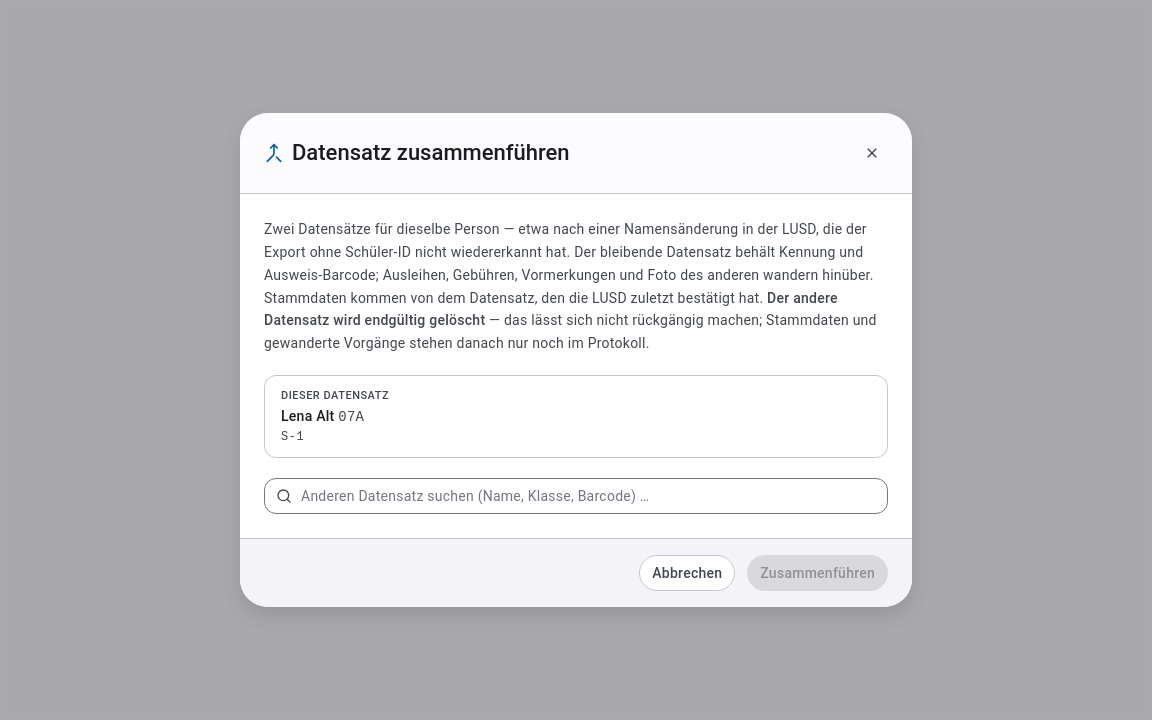
Test case: SchuelerZusammenfuehrenDialog: Kandidatensuche › fängt einen Netzwerkfehler in der Suche ab und sagt es
Type "Al" into the search field labelled "Anderen Datensatz suchen".
click(576, 496); type("Al")  # box [264,478,888,514]
Wait 250 ms
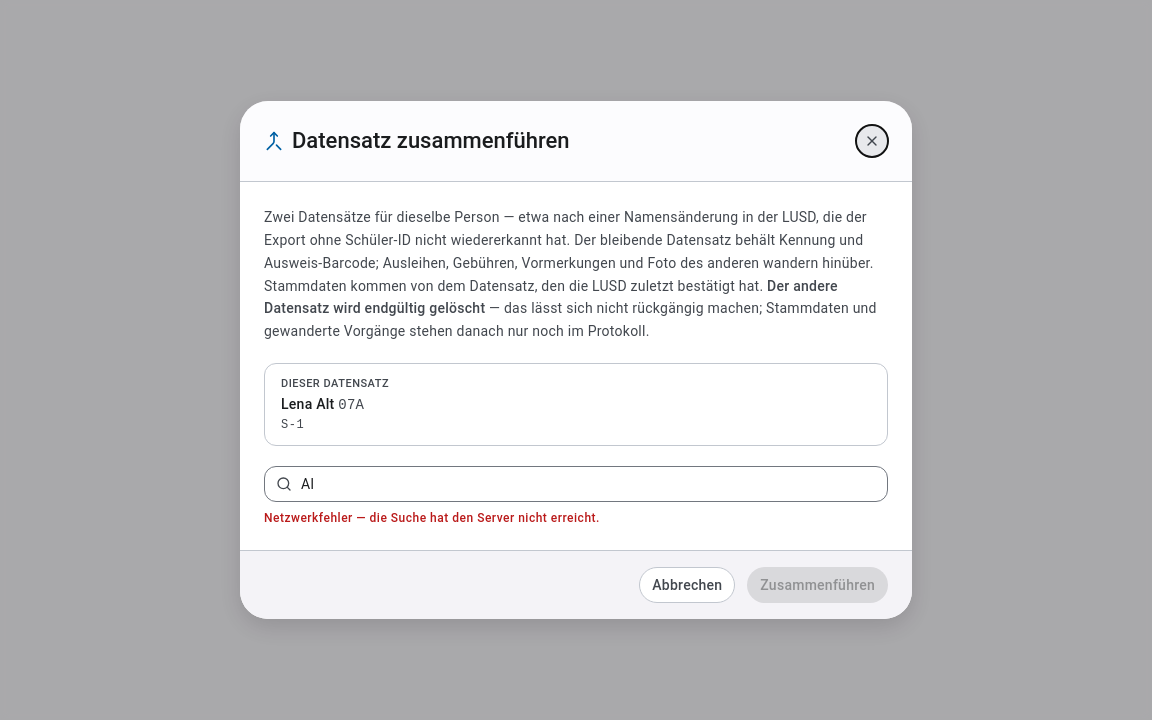
Now the text "Netzwerkfehler — die Suche hat den Server nicht erreicht." is shown, box [264,511,600,525]
